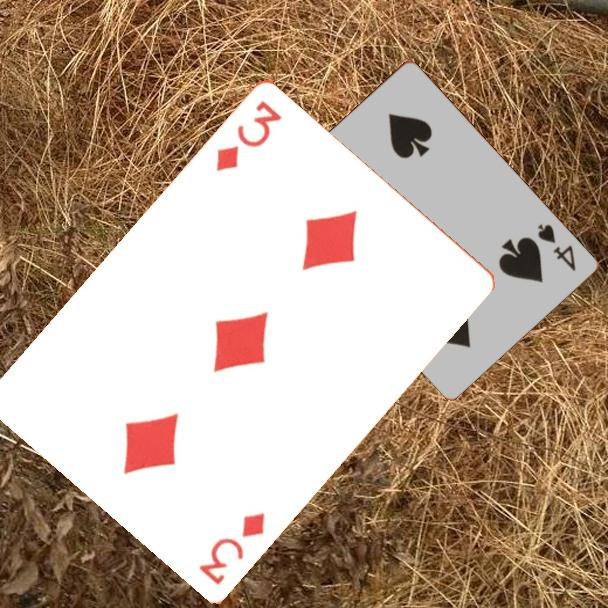d03: (195, 508, 268, 588), (212, 96, 285, 174)
s04: (533, 220, 578, 274)
